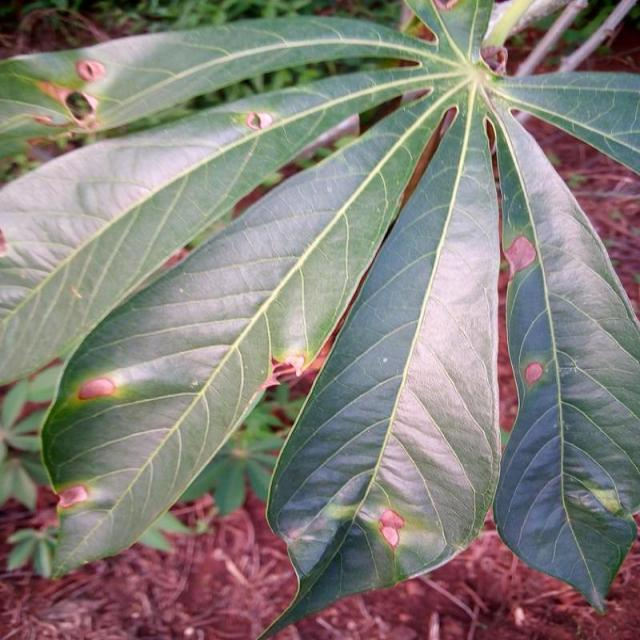cassava leaf: (2, 2, 640, 634), (258, 83, 503, 636)
